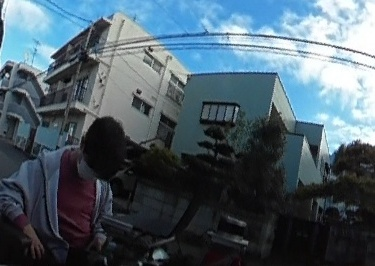person: (3, 114, 135, 266)
